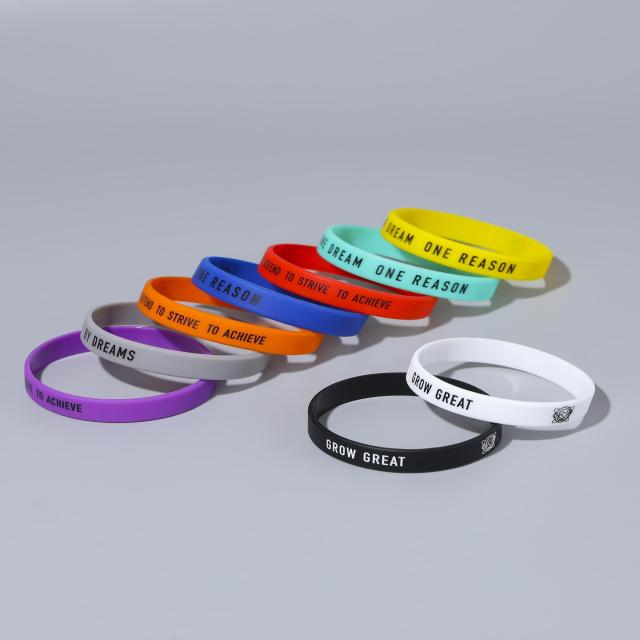bracelet: (0, 178, 640, 529)
